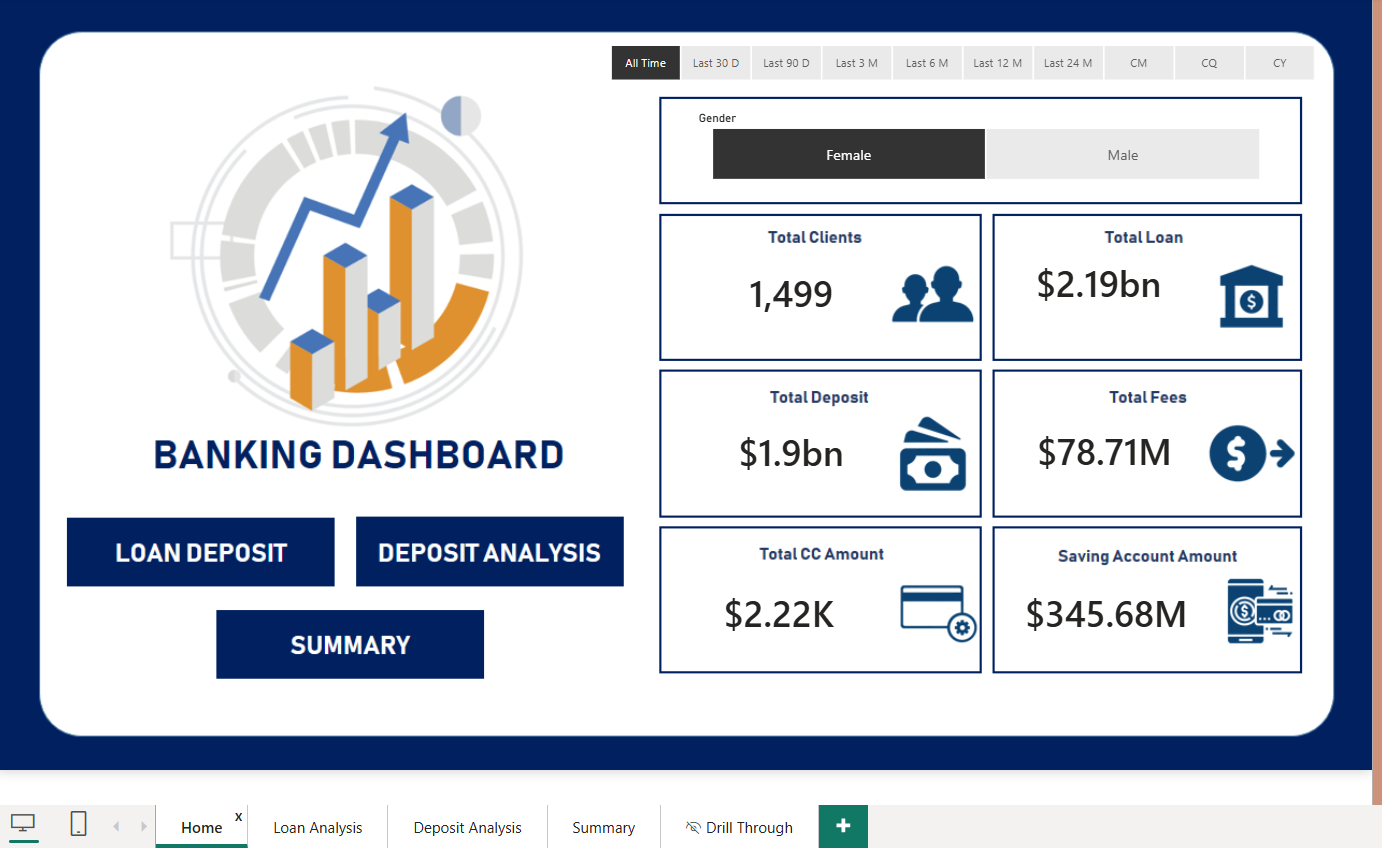

The dashboard page shown, as its layout file describes it:
{"tool":"powerbi","page":{"name":"Home","canvas":[1280,720],"ordinal":0},"visuals":[{"type":"slicer","fields":{"Values":["Gender.Gender"]},"box":[640.3,100.8,558.2,75],"z":0},{"type":"card","fields":{"Values":["DAX Measures.Total Clients"]},"box":[640.3,218.1,198.2,114.9],"z":1000},{"type":"card","fields":{"Values":["DAX Measures.Total Loan"]},"box":[933.4,208.7,184.1,114.9],"z":2000},{"type":"card","fields":{"Values":["DAX Measures.Total Deposit"]},"box":[640.3,374.1,198.2,98.5],"z":3000},{"type":"card","fields":{"Values":["DAX Measures.Total CC Amount"]},"box":[628.5,533.6,198.2,79.7],"z":4000},{"type":"card","fields":{"Values":["DAX Measures.Total Fees"]},"box":[938.1,372.9,185.3,99.7],"z":5000},{"type":"card","fields":{"Values":["DAX Measures.Savings Account"]},"box":[933.4,533.6,198.2,79.7],"z":6000},{"type":"actionButton","box":[63.3,483.1,253.3,65.7],"z":7000},{"type":"actionButton","box":[335.4,485.5,250.9,63.3],"z":8000},{"type":"actionButton","box":[205.2,573.4,255.6,61],"z":9000},{"type":"slicer","fields":{"Values":["Period.Name"]},"box":[546.4,38.7,703.6,45.7],"z":10000}]}

Visuals, with their boxes on the page's 1280x720 design canvas (x1, y1, x2, y2). These are canvas units, not pixel positions in the 1382x848 screenshot, which may show the page scaled, cropped or inside an application window:
slicer - Gender.Gender: Rect(640, 101, 1198, 176)
card - DAX Measures.Total Clients: Rect(640, 218, 838, 333)
card - DAX Measures.Total Loan: Rect(933, 209, 1118, 324)
card - DAX Measures.Total Deposit: Rect(640, 374, 838, 473)
card - DAX Measures.Total CC Amount: Rect(628, 534, 827, 613)
card - DAX Measures.Total Fees: Rect(938, 373, 1123, 473)
card - DAX Measures.Savings Account: Rect(933, 534, 1132, 613)
actionButton: Rect(63, 483, 317, 549)
actionButton: Rect(335, 486, 586, 549)
actionButton: Rect(205, 573, 461, 634)
slicer - Period.Name: Rect(546, 39, 1250, 84)
